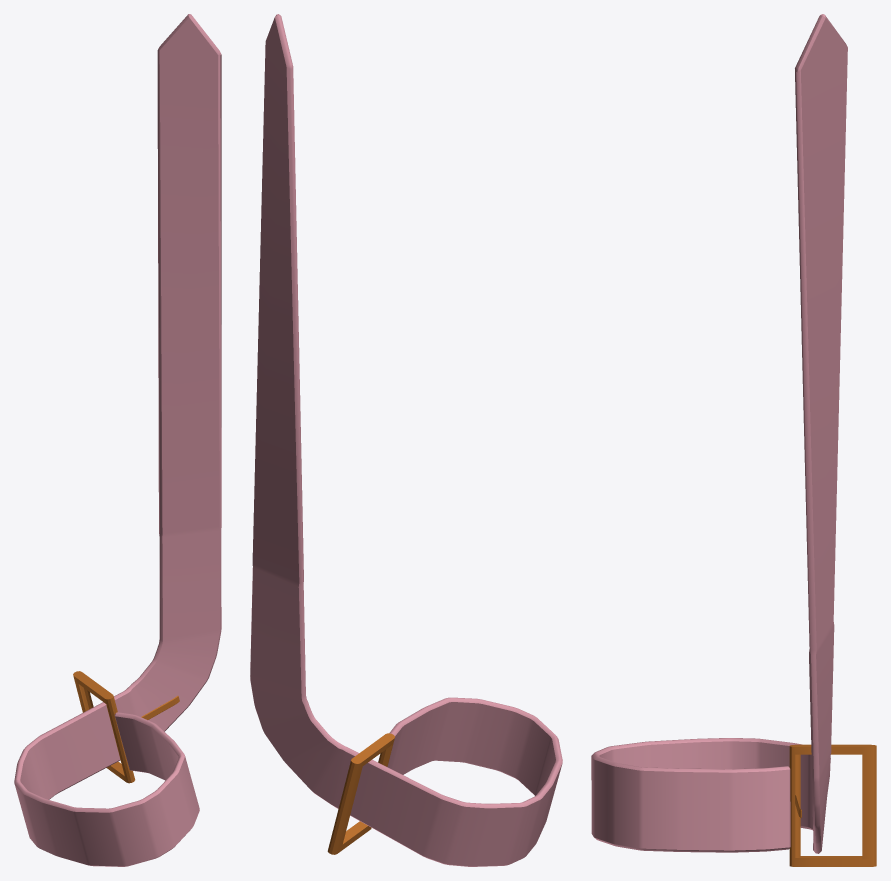
File: Belt.FBX
The picture shows the model from 3 angles, left to right: view 1: azimuth 30°, elevation 25°; view 2: azimuth 150°, elevation 25°; view 3: azimuth 270°, elevation 25°; orthographic projection. The views are drawn at different scales.
Parts seen in each view (by area): view 1: Box002, Object001; view 2: Box002, Object001; view 3: Box002, Object001.
Boxes of the visible parts, box(x1,y1,x2,y2) form: Box002: box(14, 14, 221, 866); Object001: box(73, 671, 179, 783); Box002: box(250, 14, 562, 866); Object001: box(327, 733, 394, 854); Box002: box(591, 14, 847, 853); Object001: box(789, 744, 876, 866).
Bounding box in the file's own units: 37.5 × 117 × 32.95.
